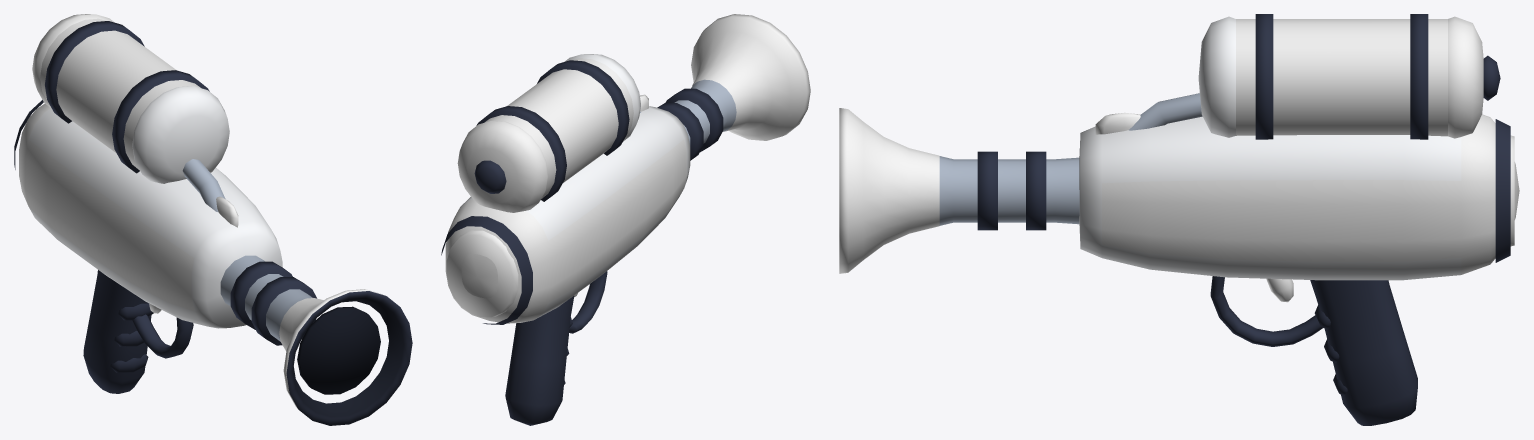
Rendered from kit_mist_rasp.glb.
The picture shows the model from 3 angles, left to right: view 1: azimuth 30°, elevation 25°; view 2: azimuth 150°, elevation 25°; view 3: azimuth 270°, elevation 25°; orthographic projection. The views are drawn at different scales.
Visible parts, largest first — view 1: kit_mist_rasp; view 2: kit_mist_rasp; view 3: kit_mist_rasp.
Part boxes in pixels (<box>): kit_mist_rasp: <box>14,14,412,425</box>; kit_mist_rasp: <box>441,14,810,425</box>; kit_mist_rasp: <box>839,14,1519,425</box>.
Bounding box in the file's own units: 0.132 × 0.3503 × 0.536.
